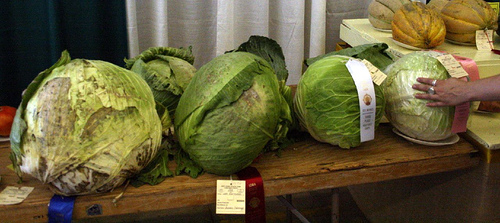cabbage: (9, 48, 166, 201), (173, 50, 294, 176), (383, 51, 480, 142), (294, 54, 383, 151), (122, 46, 195, 117)
